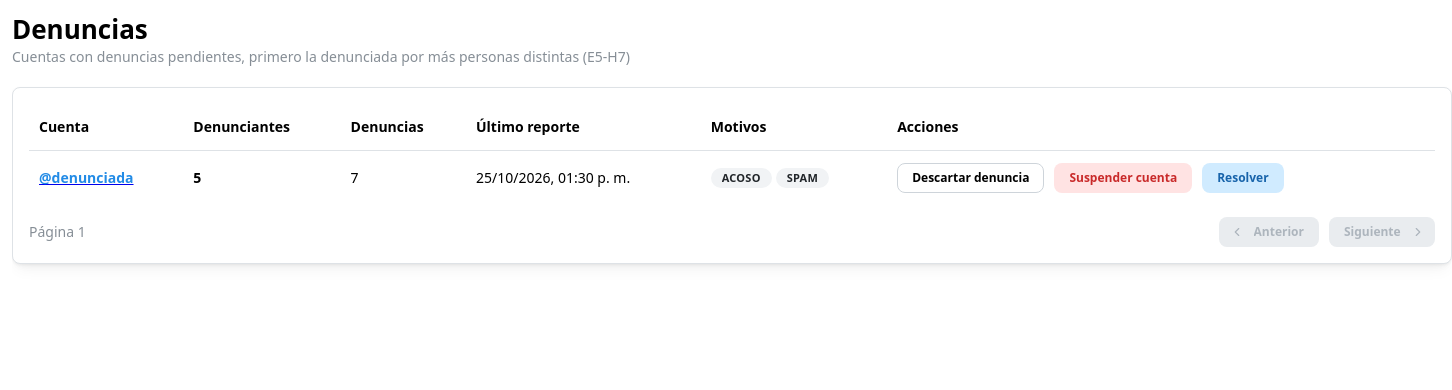
Test: ModerationPage › keeps the row and says why when an action fails
Step 1. Click the button "Descartar denuncia" → (971, 178), box [897, 163, 1044, 193]
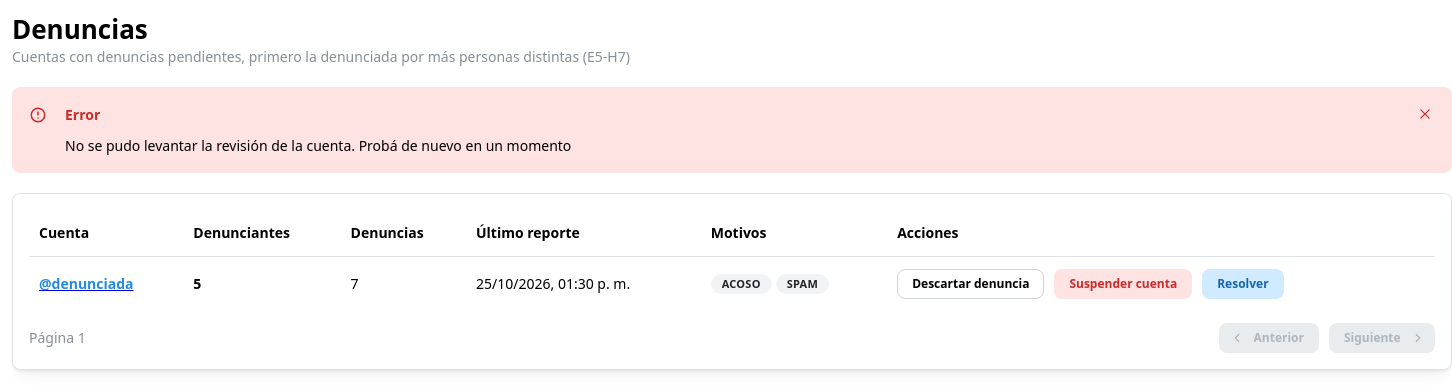
Expected: the text "@denunciada" is shown, [39, 274, 134, 293]
Result: the text "No se pudo levantar la revisión" is shown at [65, 136, 571, 155]
